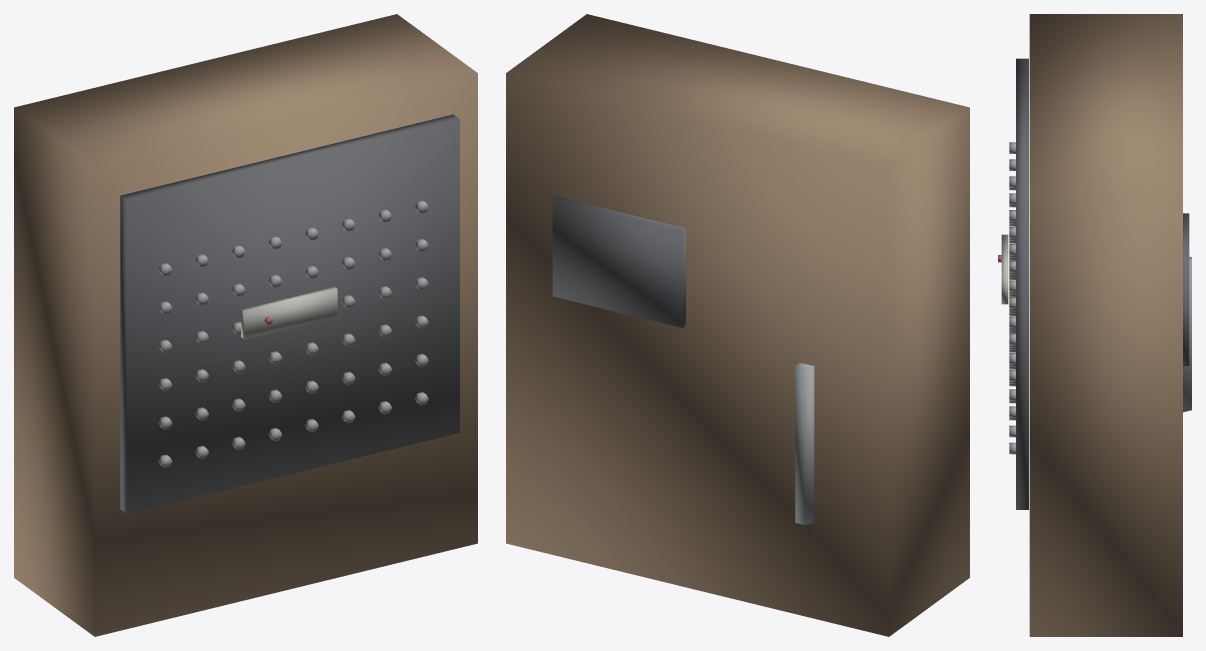
File: telephone_switchboard__service.glb
3 renders of one model, left to right at view 1: azimuth 30°, elevation 25°; view 2: azimuth 150°, elevation 25°; view 3: azimuth 270°, elevation 25°, orthographic. The views are drawn at different scales.
Parts seen in each view (by area): view 1: world; view 2: world; view 3: world.
Part boxes in pixels (x1,y1,x2,y2): world: (14,14,477,636); world: (506,14,969,636); world: (998,14,1191,636).
Bounding box in the file's own units: 1.15 × 1.35 × 0.5319.
